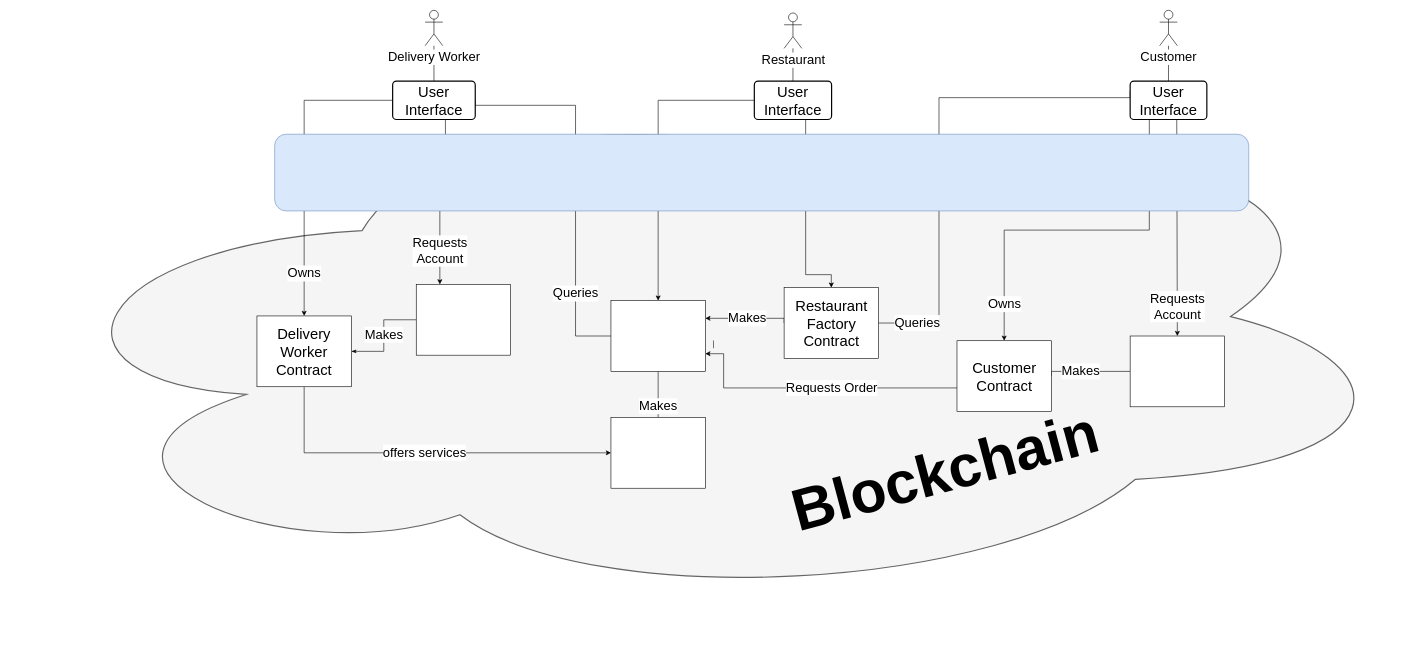
Some shapes in this 1428 by 653 pixel diagram are drawn without their labels. The shapes that lost their labels are listed below. From the top down, each one's box as (x1, y1, x2, y2) in pixels, then its label:
(274, 134, 1249, 211): Ethereum Node, provided by Infura or my own remote server
(416, 284, 511, 355): Delivery Worker Factory Contract
(610, 300, 705, 371): Restaurant Contract
(1130, 335, 1225, 407): Customer Factory Contract
(610, 417, 705, 488): Order
